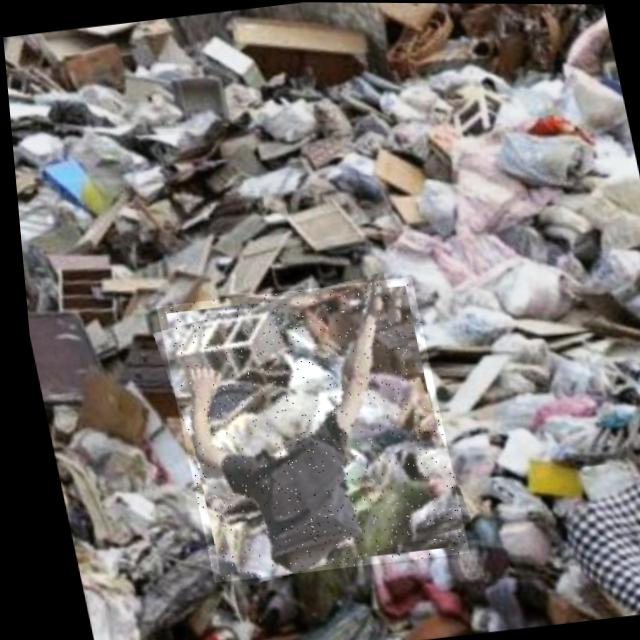Person in Rubble: (148, 274, 461, 584)
